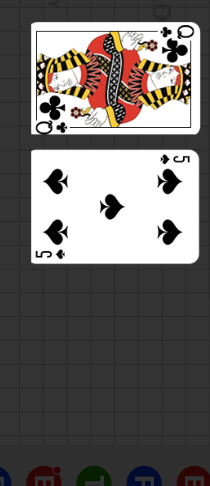5S: (159, 153, 192, 165), (35, 247, 68, 259)
QC: (31, 89, 78, 133), (152, 22, 198, 66)
